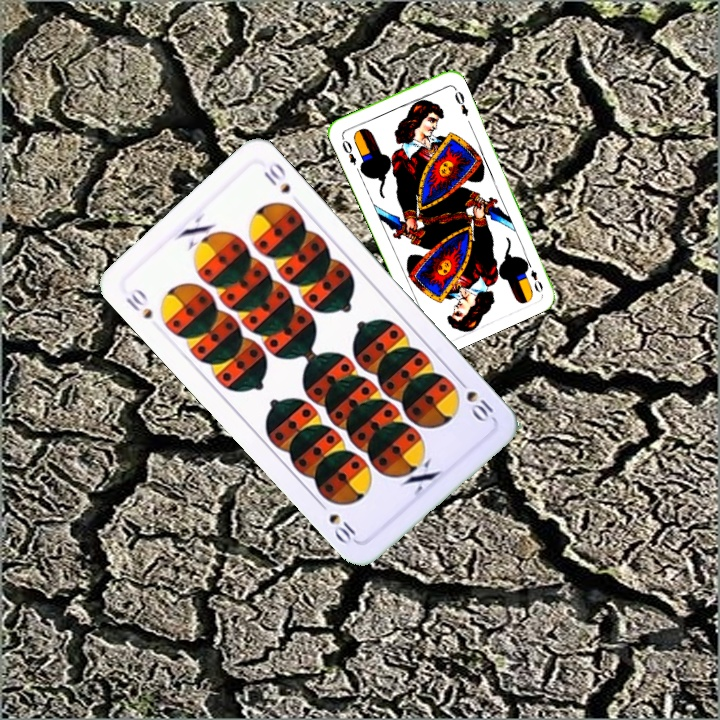EO: (338, 136, 359, 168), (526, 266, 545, 295)
S10: (453, 374, 496, 425), (121, 291, 155, 322)
